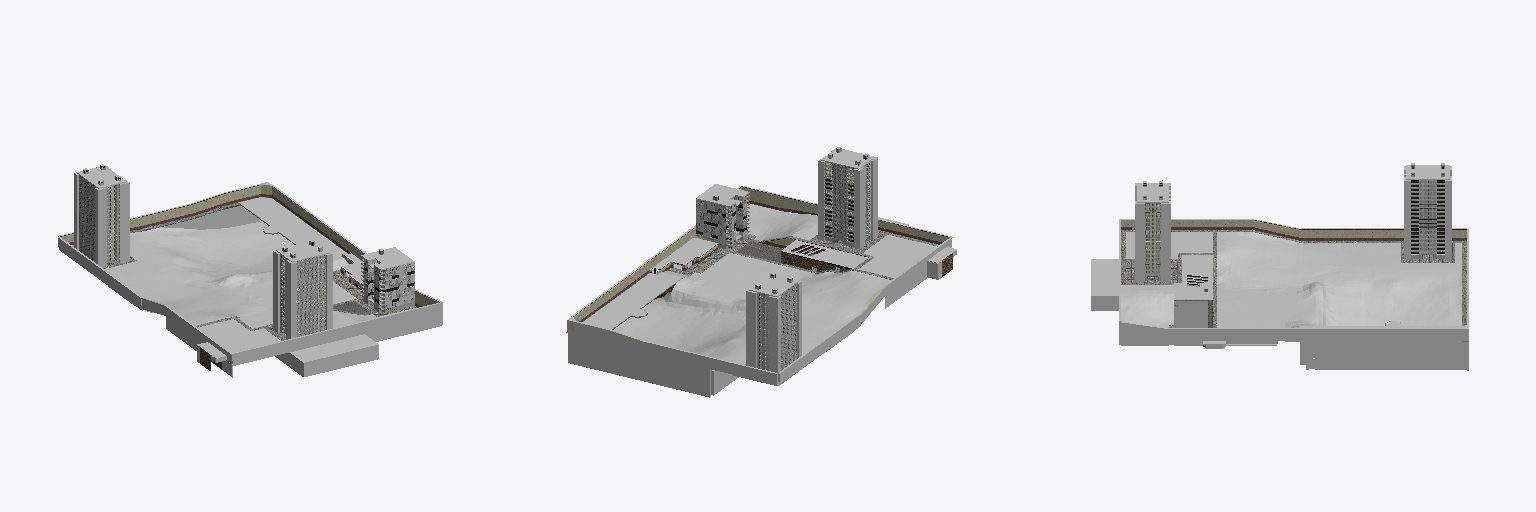
3 renders of one model, left to right at view 1: azimuth 30°, elevation 25°; view 2: azimuth 150°, elevation 25°; view 3: azimuth 270°, elevation 25°, orthographic.
Visible parts, largest first — view 1: plaster_plasterwall016a-material.024, plaster_plasterwall016a-material.001, plaster_plasterwall016a-material.051, plaster_plasterwall016a-material.062, plaster_plasterwall016a-material.038, plaster_plasterwall016a-material.030, plaster_plasterwall016a-material.025, plaster_plasterwall016a-material.035, plaster_plasterwall016a-material.036, plaster_plasterwall016a-material.042, plaster_plasterwall016a-material.053, plaster_plasterwall016a-material.059 (+1 smaller); view 2: plaster_plasterwall016a-material.001, plaster_plasterwall016a-material.024, plaster_plasterwall016a-material.051, plaster_plasterwall016a-material.062, plaster_plasterwall016a-material.025, plaster_plasterwall016a-material.030, plaster_plasterwall016a-material.035, plaster_plasterwall016a-material.038, plaster_plasterwall016a-material.036, plaster_plasterwall016a-material.053, plaster_plasterwall016a-material.027, plaster_plasterwall016a-material.040 (+3 smaller); view 3: plaster_plasterwall016a-material.001, plaster_plasterwall016a-material.024, plaster_plasterwall016a-material.051, plaster_plasterwall016a-material.062, plaster_plasterwall016a-material.025, plaster_plasterwall016a-material.035, plaster_plasterwall016a-material.036, plaster_plasterwall016a-material.030, plaster_plasterwall016a-material.038, plaster_plasterwall016a-material.053, plaster_plasterwall016a-material.042, plaster_plasterwall016a-material.027.
Part boxes in pixels (x1,y1,x2,y2): plaster_plasterwall016a-material.024: (58, 206, 442, 377); plaster_plasterwall016a-material.001: (104, 238, 414, 352); plaster_plasterwall016a-material.051: (130, 221, 293, 290); plaster_plasterwall016a-material.062: (74, 167, 332, 339); plaster_plasterwall016a-material.038: (79, 175, 414, 335); plaster_plasterwall016a-material.030: (58, 184, 441, 353); plaster_plasterwall016a-material.025: (75, 164, 414, 328); plaster_plasterwall016a-material.035: (61, 185, 441, 306); plaster_plasterwall016a-material.036: (72, 197, 416, 340); plaster_plasterwall016a-material.042: (69, 194, 421, 307); plaster_plasterwall016a-material.053: (103, 256, 414, 339); plaster_plasterwall016a-material.059: (106, 184, 410, 326); plaster_plasterwall016a-material.001: (678, 204, 936, 364); plaster_plasterwall016a-material.024: (566, 217, 956, 397); plaster_plasterwall016a-material.051: (614, 282, 745, 359); plaster_plasterwall016a-material.062: (746, 151, 877, 372); plaster_plasterwall016a-material.025: (568, 147, 877, 321); plaster_plasterwall016a-material.030: (572, 167, 951, 373); plaster_plasterwall016a-material.035: (567, 187, 949, 340); plaster_plasterwall016a-material.038: (700, 162, 853, 370); plaster_plasterwall016a-material.036: (583, 164, 938, 364); plaster_plasterwall016a-material.053: (668, 163, 883, 275); plaster_plasterwall016a-material.027: (696, 165, 870, 369); plaster_plasterwall016a-material.040: (613, 245, 952, 329); plaster_plasterwall016a-material.001: (1121, 232, 1461, 327); plaster_plasterwall016a-material.024: (1091, 259, 1468, 370); plaster_plasterwall016a-material.051: (1309, 272, 1461, 358); plaster_plasterwall016a-material.062: (1135, 170, 1451, 281); plaster_plasterwall016a-material.025: (1135, 163, 1468, 328); plaster_plasterwall016a-material.035: (1121, 219, 1468, 306); plaster_plasterwall016a-material.036: (1121, 227, 1468, 341); plaster_plasterwall016a-material.030: (1119, 176, 1468, 368); plaster_plasterwall016a-material.038: (1419, 180, 1436, 251); plaster_plasterwall016a-material.053: (1126, 203, 1453, 327); plaster_plasterwall016a-material.042: (1121, 227, 1466, 240); plaster_plasterwall016a-material.027: (1145, 175, 1451, 275).
Bounding box in the file's own units: 156 × 82.82 × 223.
Materials: 67 (50 with a texture image).